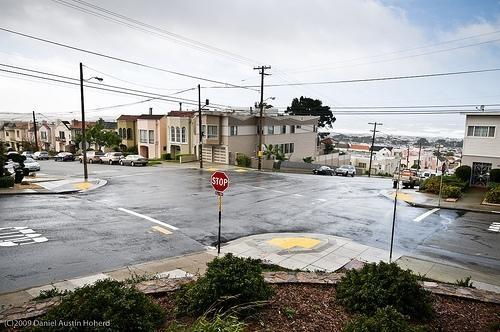car: (99, 151, 124, 164), (119, 155, 148, 166), (78, 151, 104, 163), (334, 164, 356, 176), (312, 165, 334, 176), (23, 158, 40, 172), (54, 152, 76, 162), (34, 152, 50, 160), (422, 172, 436, 181), (20, 151, 33, 157)
truck: (392, 170, 424, 188)
